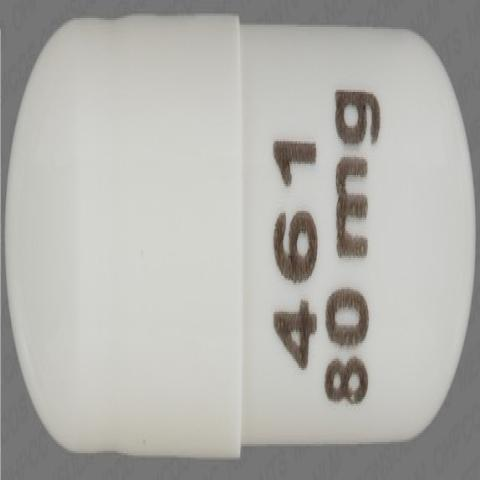Pill: (5, 11, 479, 476)
